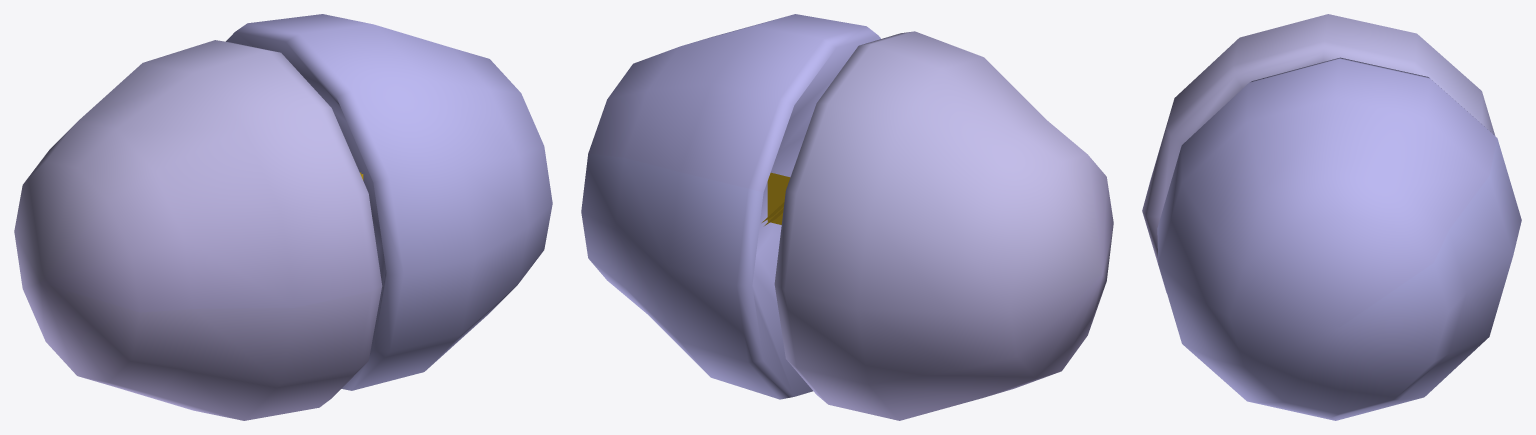
The model's file is Connector 1.fbx.
3 renders of one model, left to right at view 1: azimuth 30°, elevation 25°; view 2: azimuth 150°, elevation 25°; view 3: azimuth 270°, elevation 25°, orthographic. The views are drawn at different scales.
Visible parts, largest first — view 1: Connector; view 2: Connector; view 3: Connector.
Part boxes in pixels (left/top/right/bottom): Connector: left=14, top=14, right=552, bottom=420; Connector: left=581, top=14, right=1113, bottom=420; Connector: left=1142, top=14, right=1521, bottom=420.
Bounding box in the file's own units: 0.4393 × 0.2996 × 0.3106.
2 materials, 2 textured.
